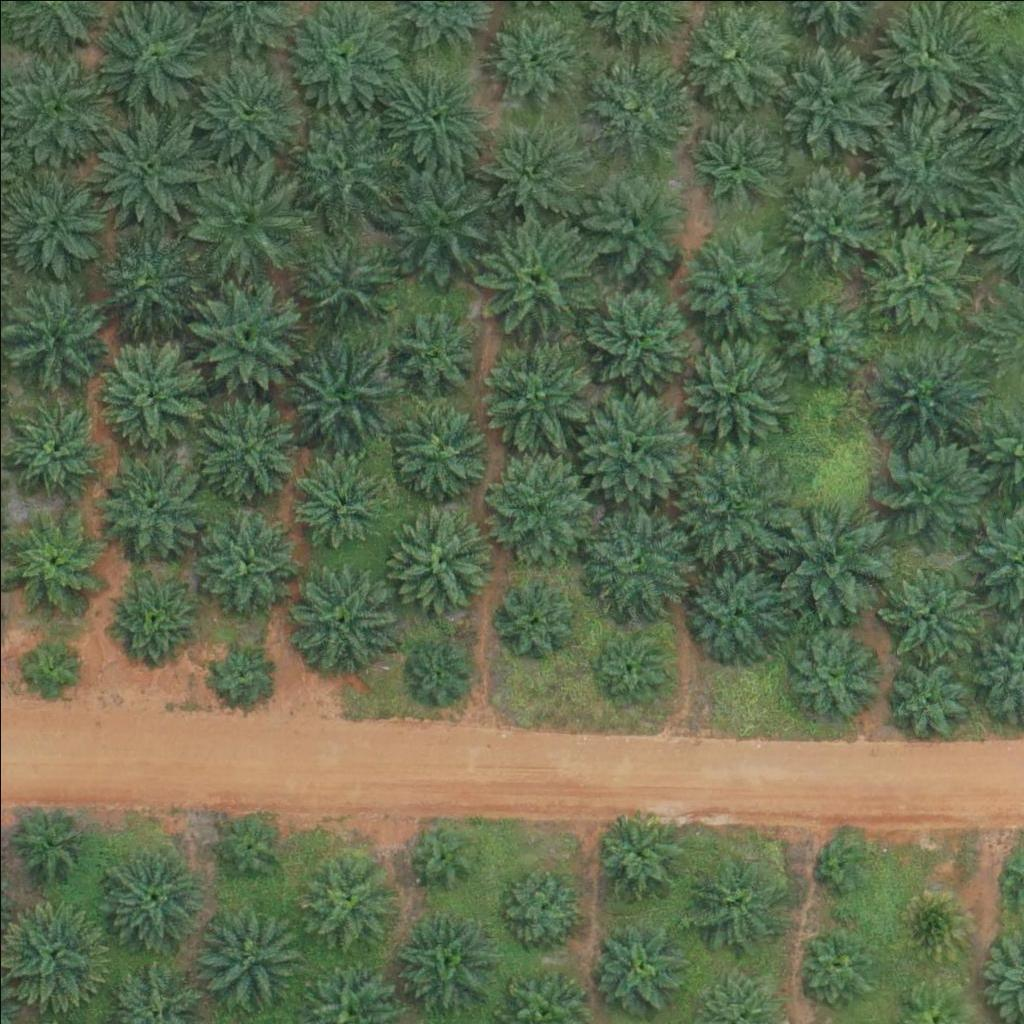Kelapa_Sawit: (867, 428, 992, 554), (770, 495, 895, 621), (667, 436, 792, 562), (573, 271, 698, 397), (472, 329, 597, 455), (473, 214, 598, 340), (377, 158, 502, 284), (281, 338, 406, 464), (282, 219, 407, 345), (282, 103, 407, 229), (181, 269, 306, 395), (183, 151, 308, 277), (86, 103, 211, 229), (183, 49, 308, 175), (85, 327, 210, 452), (673, 330, 786, 444), (581, 45, 694, 159), (675, 226, 788, 339), (682, 108, 795, 221), (581, 160, 694, 273), (481, 449, 594, 562), (873, 1, 986, 114), (579, 392, 691, 506), (474, 113, 586, 227), (867, 336, 979, 449), (862, 217, 974, 330), (869, 107, 981, 220), (781, 162, 893, 275), (584, 508, 696, 621), (777, 46, 889, 159), (100, 848, 200, 949), (197, 910, 297, 1011), (296, 849, 396, 950), (395, 907, 495, 1008), (389, 511, 489, 612), (390, 396, 490, 497), (287, 570, 387, 671), (293, 449, 393, 550), (196, 513, 296, 614), (196, 401, 296, 502), (101, 456, 201, 557), (93, 229, 193, 330), (4, 394, 104, 495), (3, 280, 103, 381), (589, 806, 689, 906), (683, 856, 783, 956), (878, 564, 978, 664), (688, 558, 788, 658), (383, 301, 483, 401), (384, 70, 484, 170), (486, 3, 586, 103), (496, 862, 584, 950), (776, 295, 864, 383), (592, 922, 679, 1010), (885, 655, 972, 743), (791, 629, 878, 717), (103, 573, 190, 661), (592, 624, 667, 700), (403, 815, 478, 891), (798, 930, 873, 1006), (894, 889, 969, 965), (495, 581, 570, 656), (11, 802, 86, 877), (207, 808, 282, 883), (406, 639, 469, 702), (809, 830, 871, 893), (207, 641, 269, 704), (21, 640, 83, 703)
